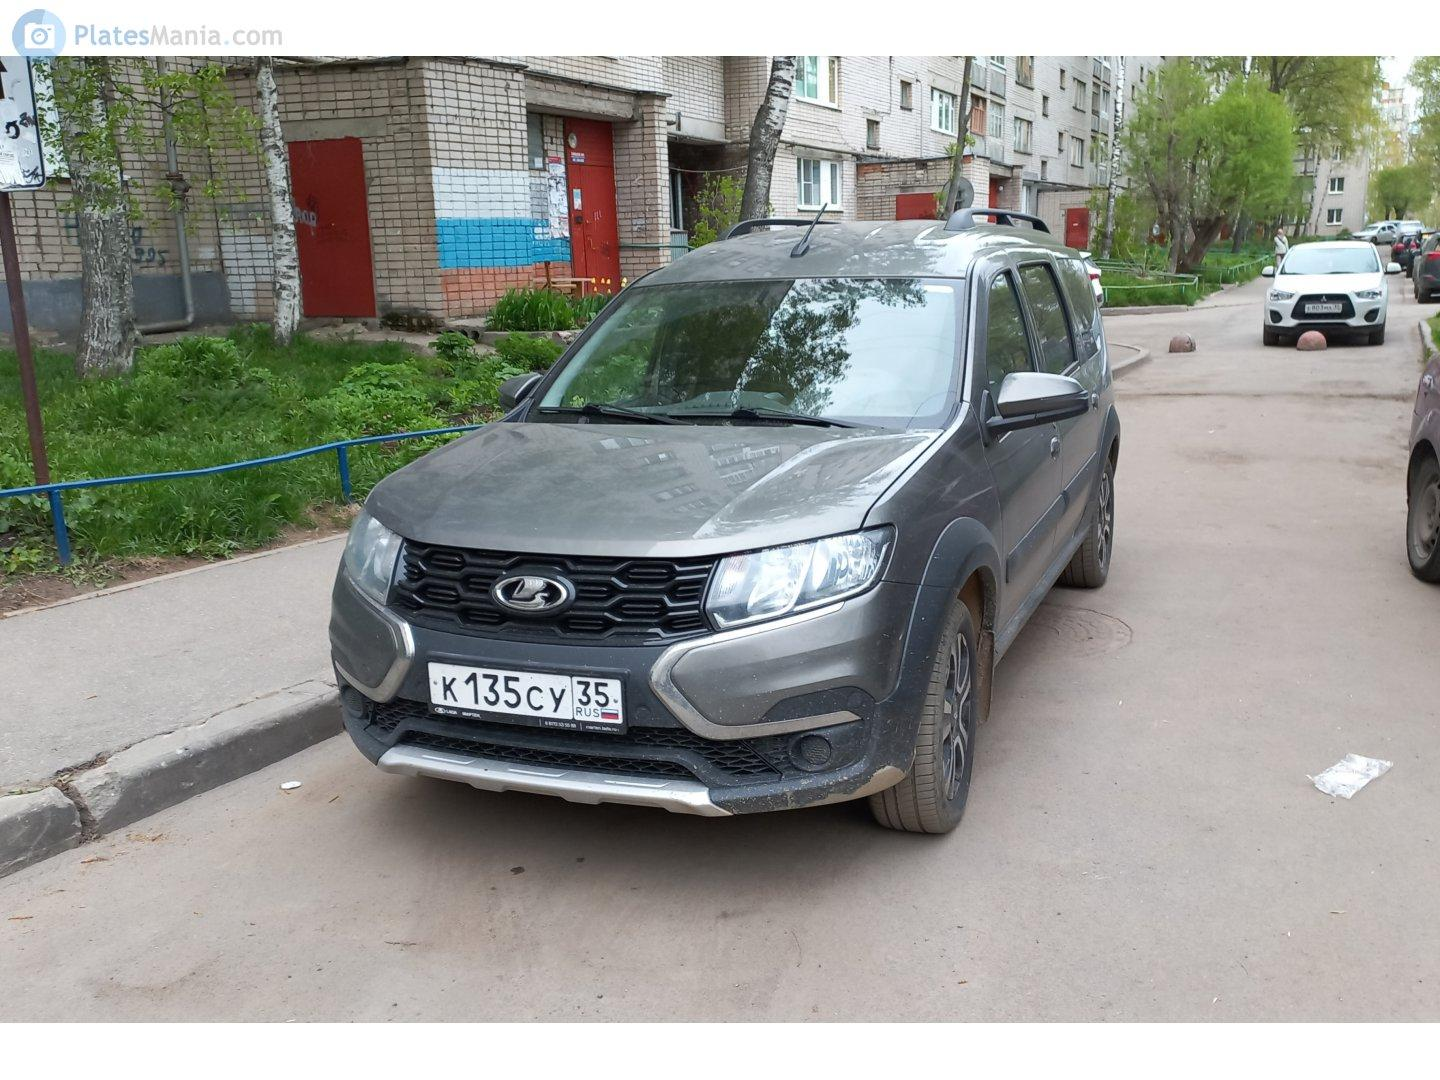license-plateSW: (431, 664, 627, 728)
